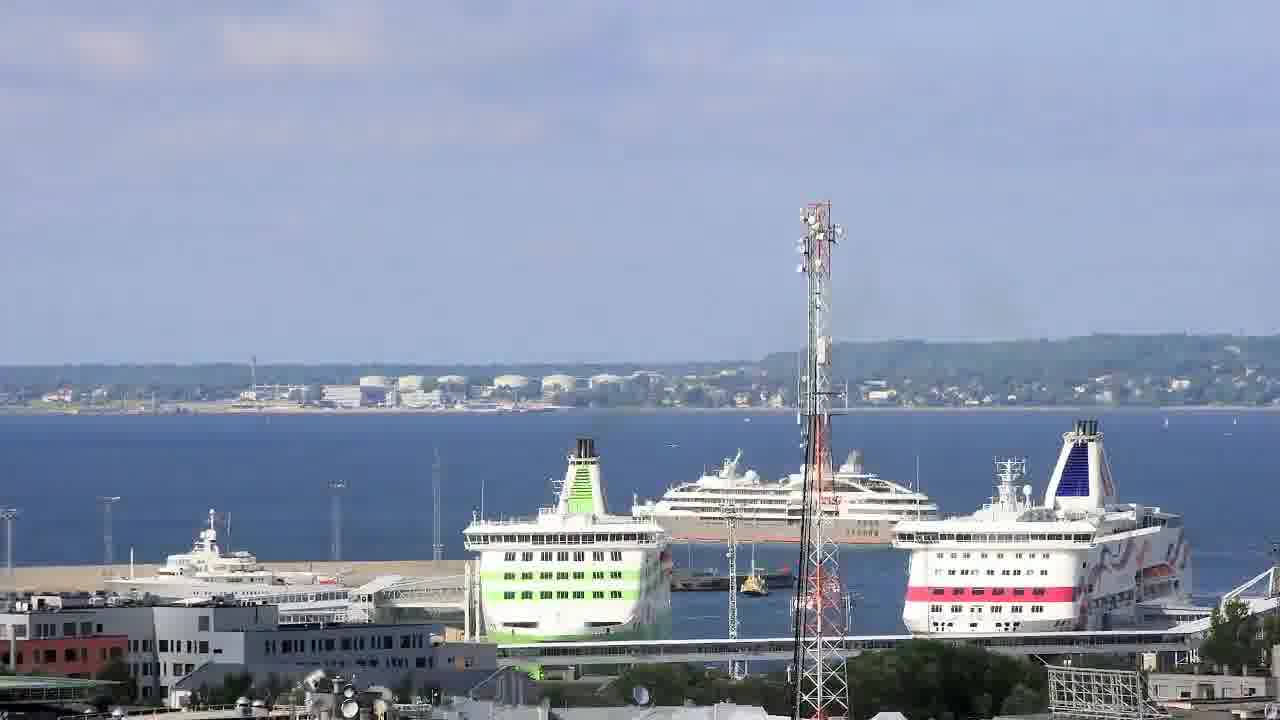type-0: (728, 546, 780, 610)
type-3: (868, 415, 1225, 638), (436, 434, 694, 670), (702, 447, 998, 571), (82, 514, 348, 607)
